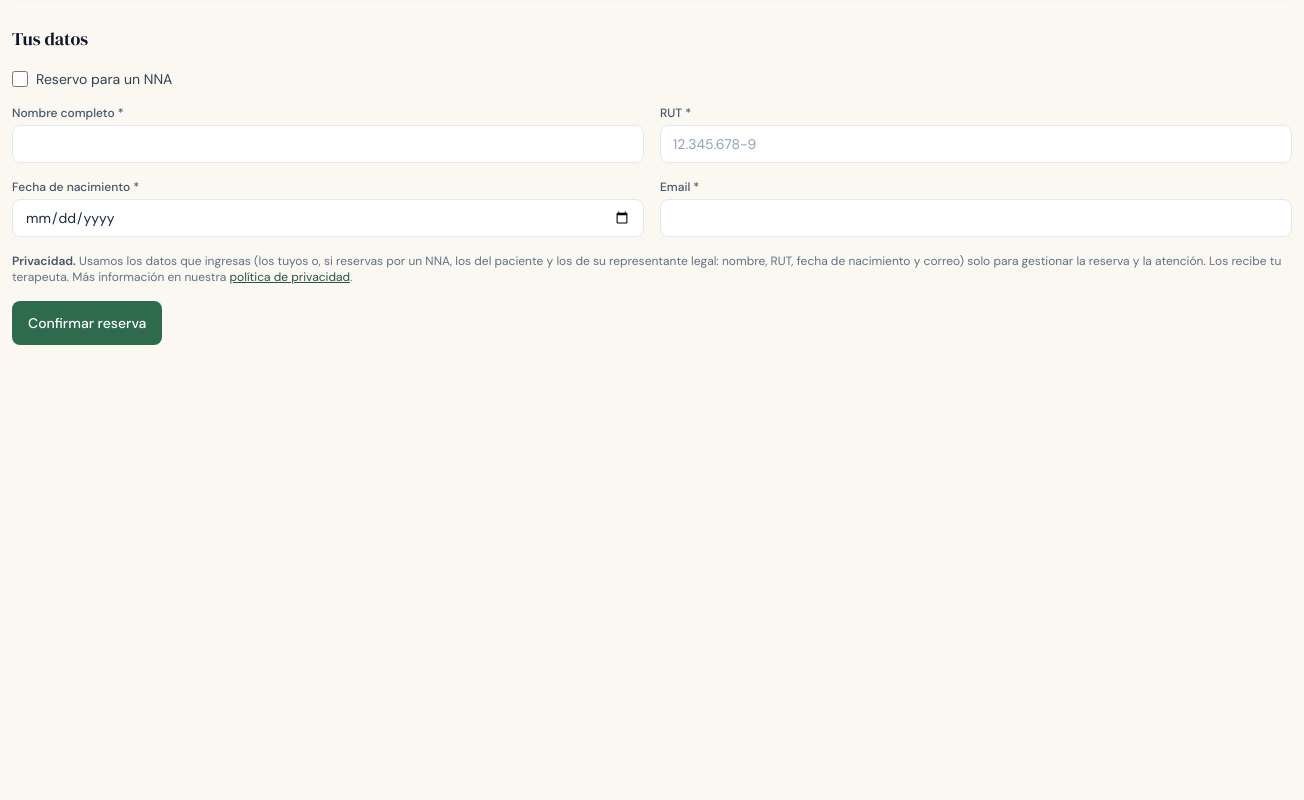
PublicBookingForm — reserva por un NNA › el interruptor está apagado por defecto y muestra el bloque del representante al activarlo
The image size is (1304, 800).
Expected: the element "Datos del representante legal" is not shown
Click the checkbox labelled "Reservo para un NNA" at (20, 79), box top-left (12, 71), bottom-right (28, 87)
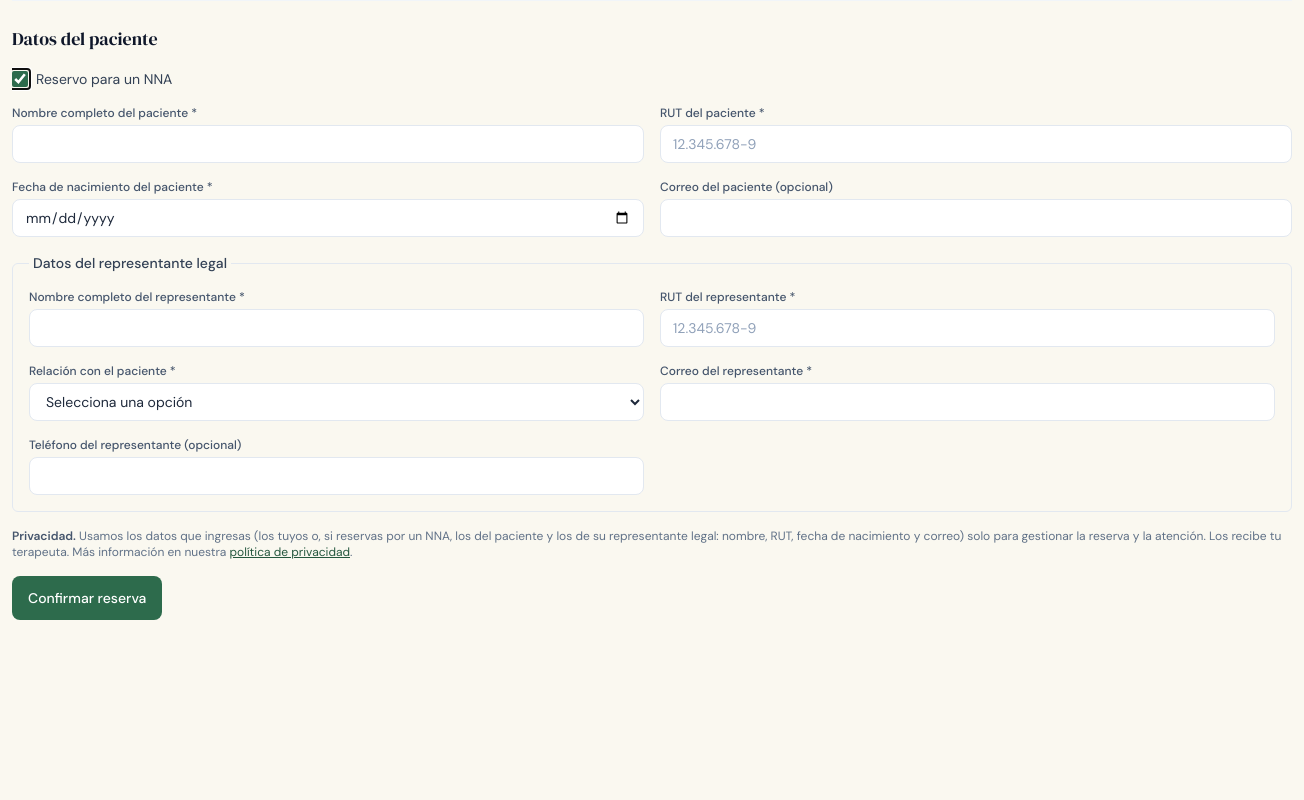
Expected: the field labelled "Nombre completo del paciente *" is shown, top-left (12, 125), bottom-right (644, 163)
Result: the element "Datos del representante legal" is shown at top-left (12, 253), bottom-right (1292, 512)
